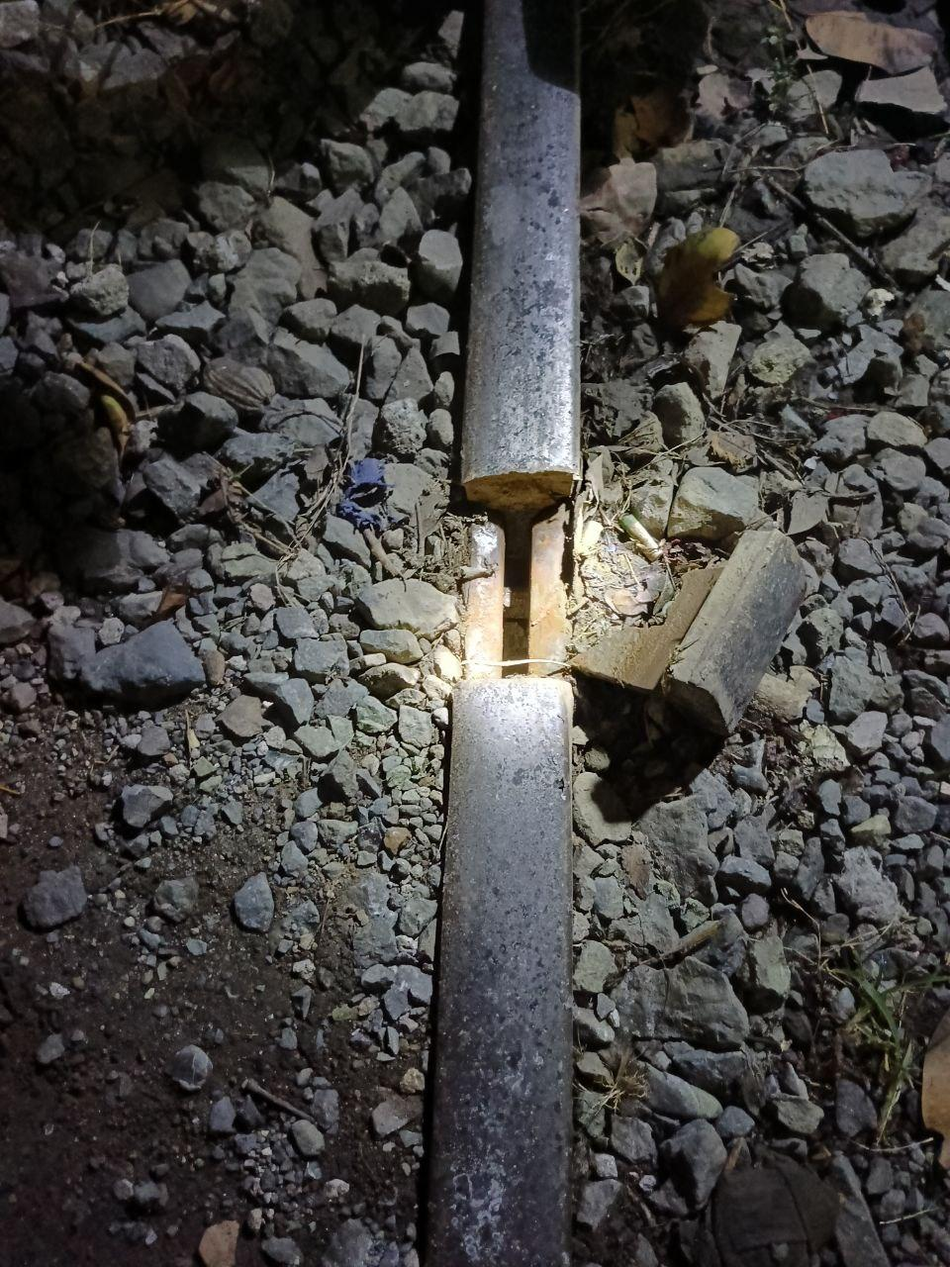railway-gap: (397, 453, 632, 737)
